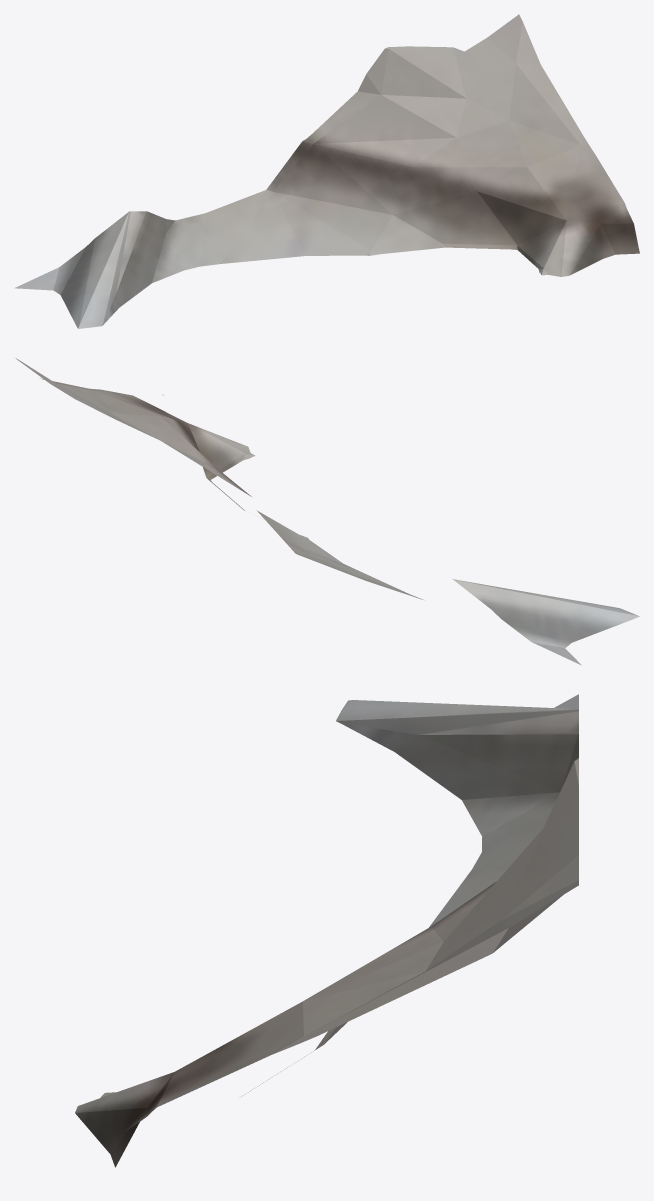
3 renders of one model, top to bottom at view 1: azimuth 30°, elevation 25°; view 2: azimuth 150°, elevation 25°; view 3: azimuth 270°, elevation 25°, orthographic. The views are drawn at different scales.
Size of the model in its own units: 0.341 by 0.0975 by 0.1474.
1 material, 1 textured.
